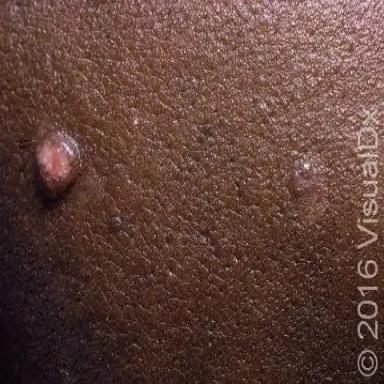Molluscum-Contagiosum: (35, 131, 80, 200)
